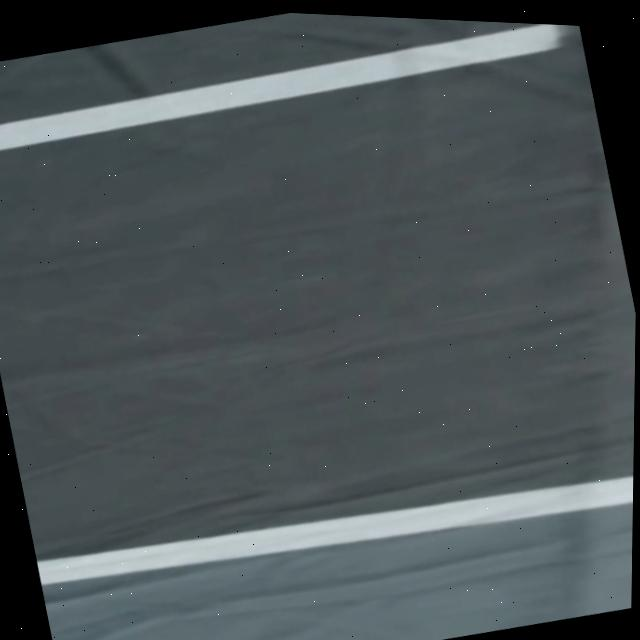center: (0, 24, 568, 151)
left: (36, 476, 633, 585)
